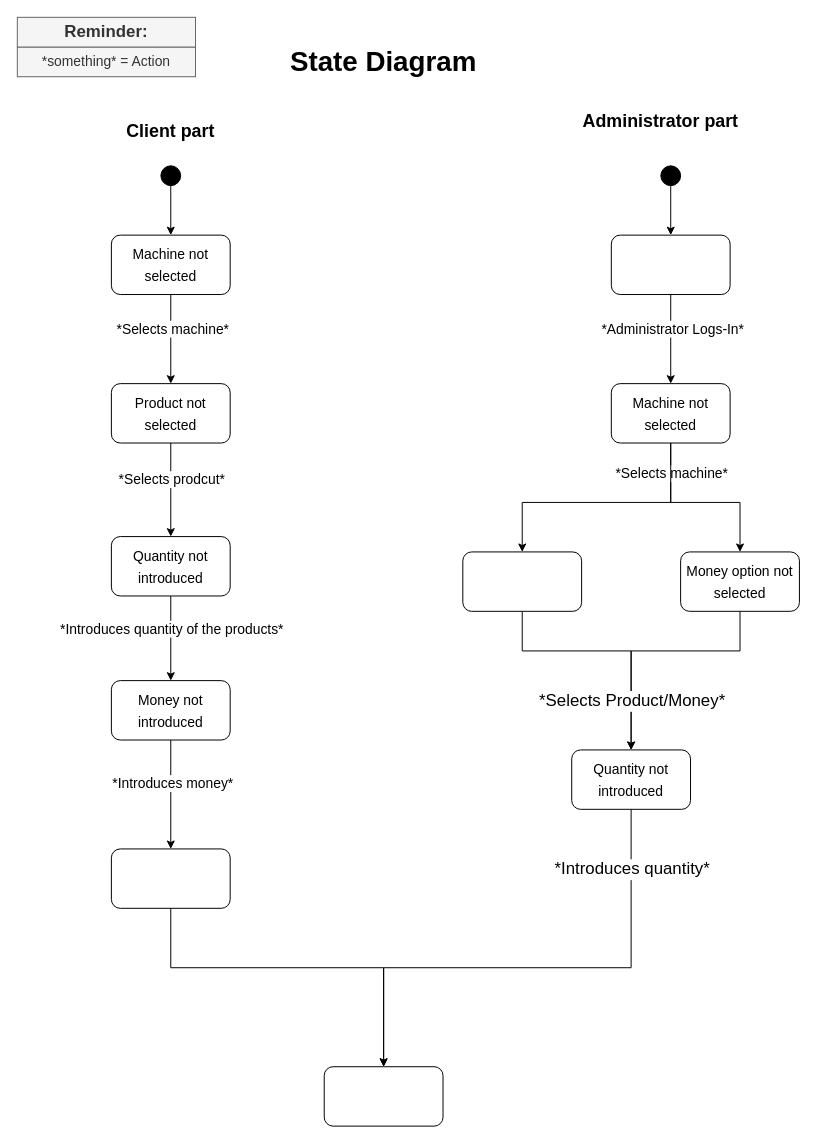
The diagram is 817 pixels wide and 1143 high, and some of its shapes have lost their labels. The shapes that lost their labels are listed below. From the top down, each one's box as (x1, y1, x2, y2) in pixels, then its label:
(610, 234, 730, 295): Administrator not Loged-In
(462, 551, 582, 611): Product to be refilled not selected
(110, 848, 230, 908): Change handed back
(323, 1066, 443, 1126): End
